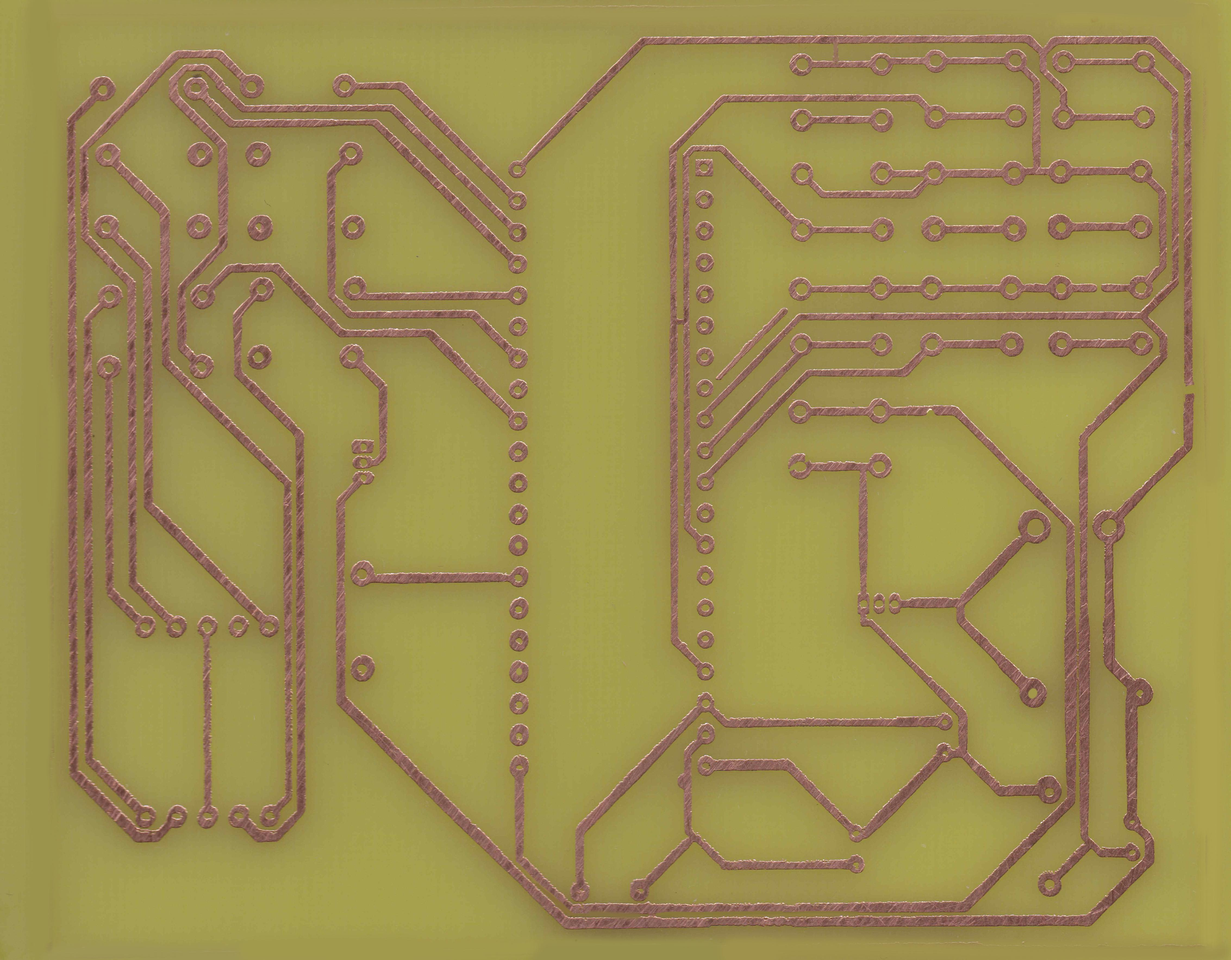missing_hole: (785, 448, 814, 481)
mouse_bite: (924, 402, 938, 419)
open_circuit: (1179, 377, 1198, 399), (1093, 280, 1106, 296)
short: (829, 35, 844, 70), (666, 315, 690, 328)
spur: (676, 771, 693, 793)
spurious_copper: (714, 306, 790, 383)
